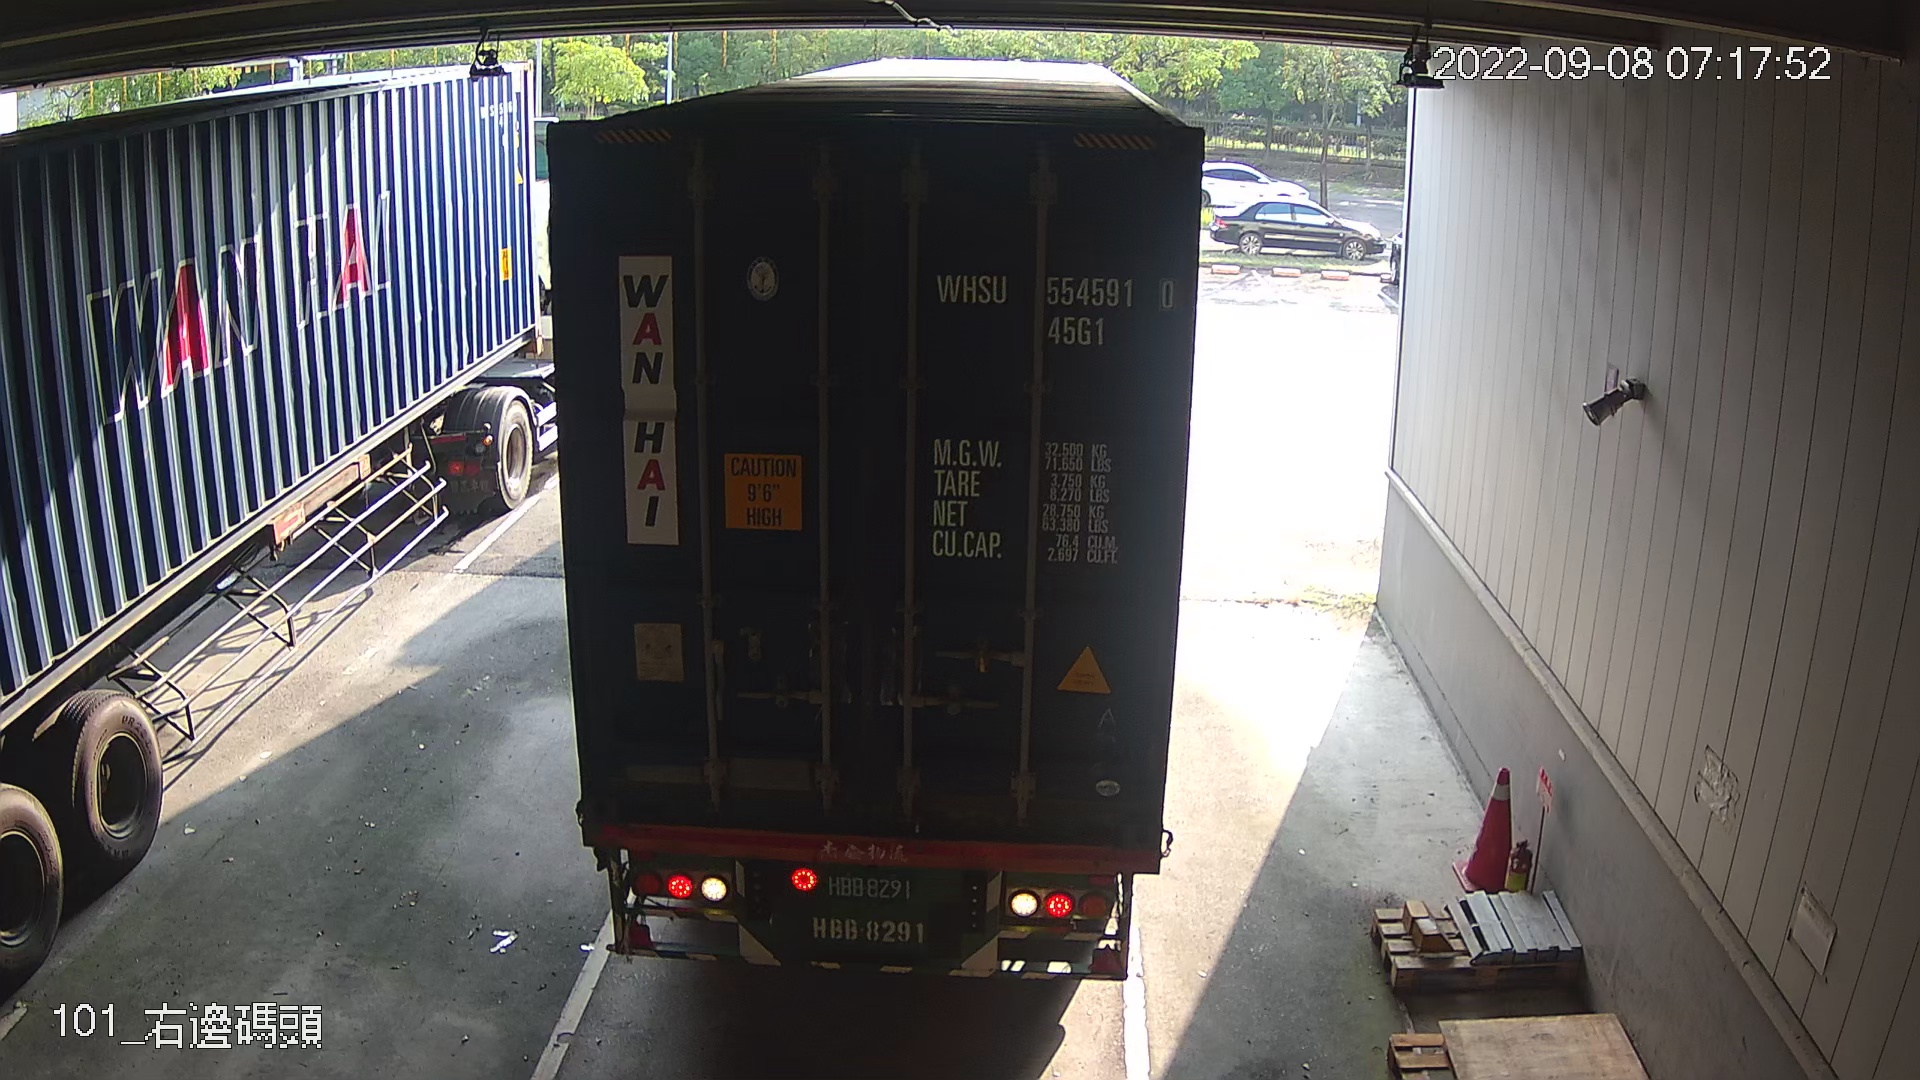container: (923, 262, 1185, 357)
